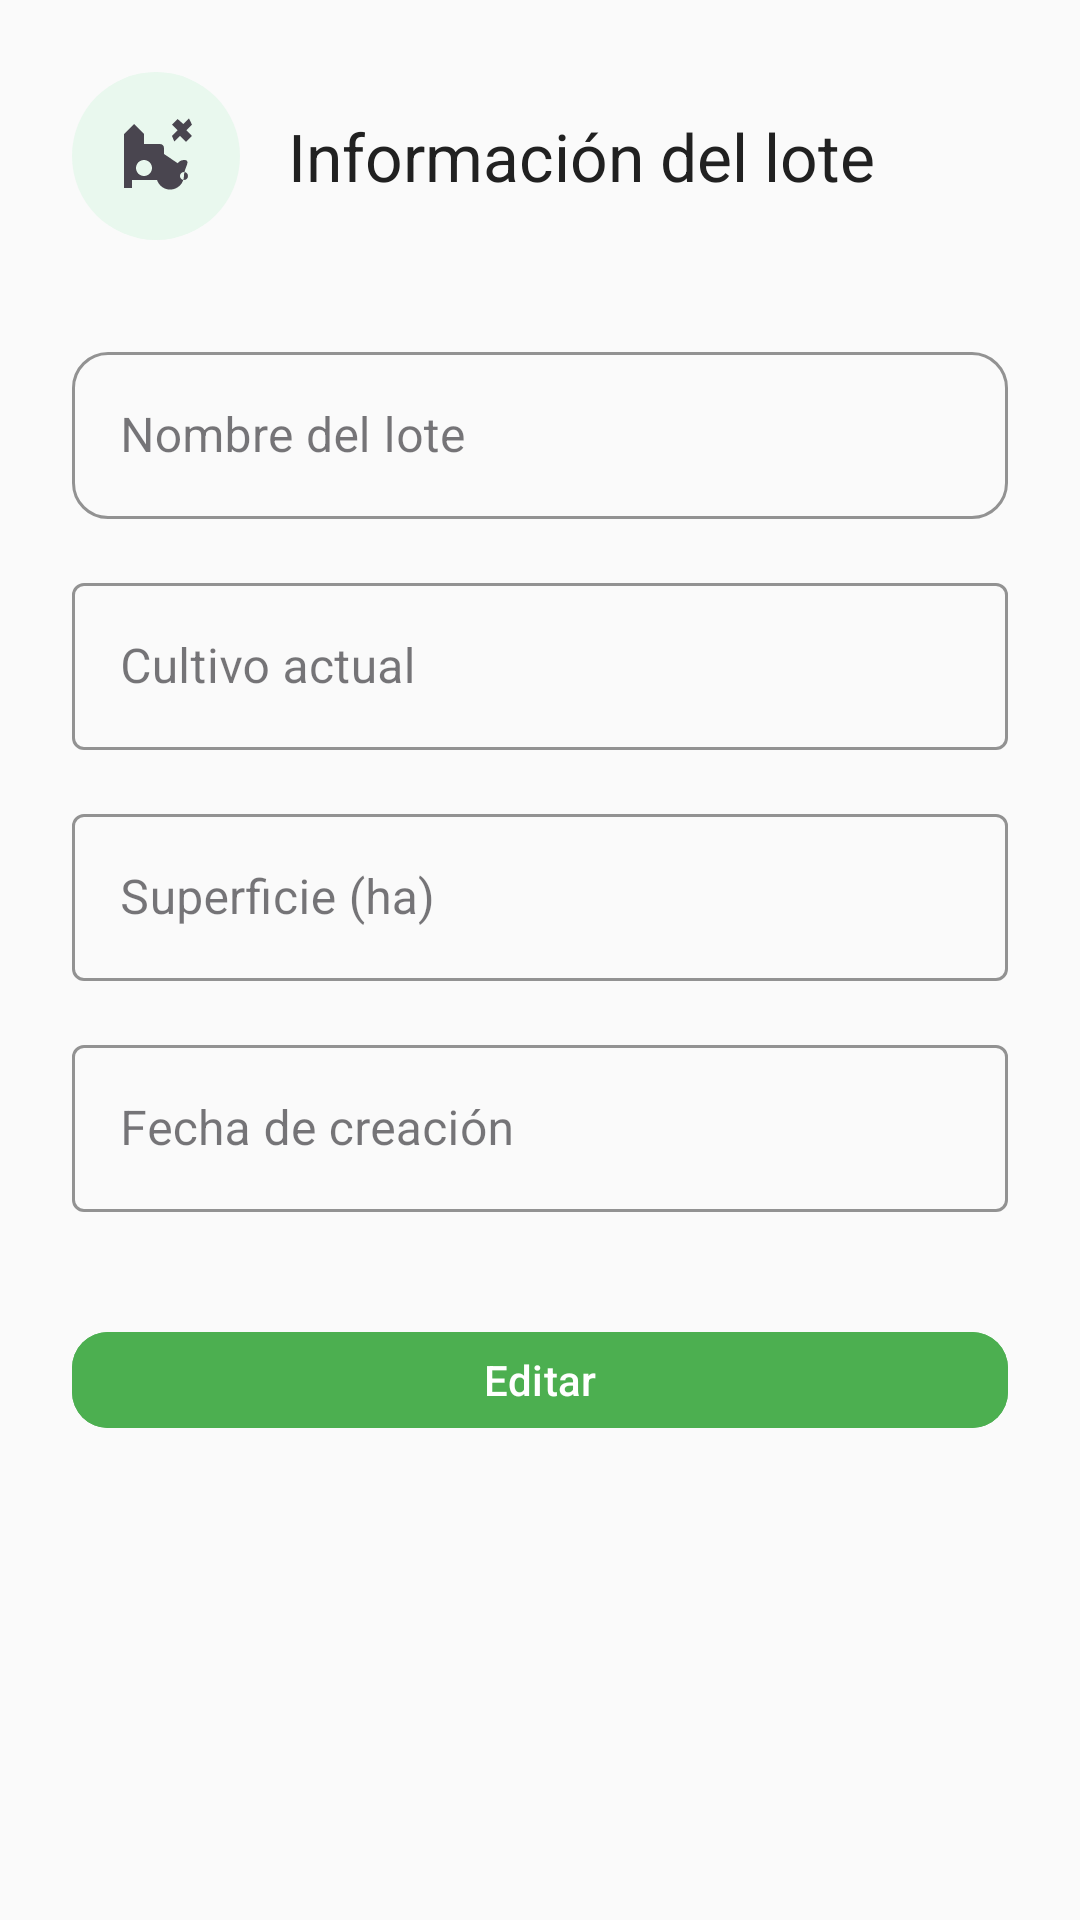

Screen size 1080×1920. Icon name, then its box in pixels as (x1, y1, x2, y2):
agriculture: (124, 118, 192, 190)
